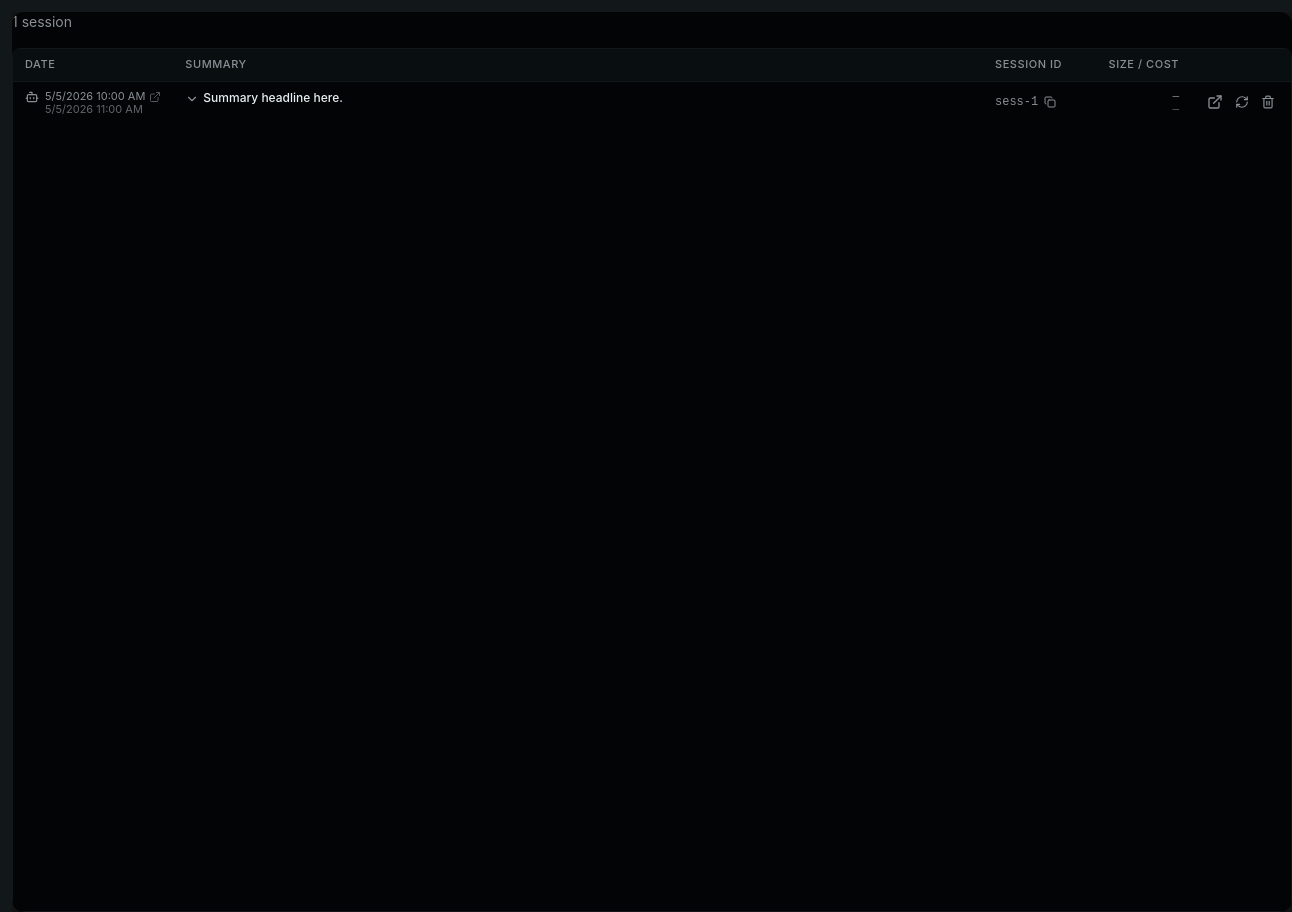
Test case: SessionList summary rendering › renders the summary headline collapsed by default and reveals the paragraph on chevron click
The width and height of the screenshot is (1292, 912).
Expected: the text "Summary headline here." is shown, [203,90,343,105]
Expected: the text "Summary paragraph here, with details." is not shown
// Click the expand chevron — paragraph appears.
Click the button named "expand summary" at (192, 99), box [185,92,199,106]
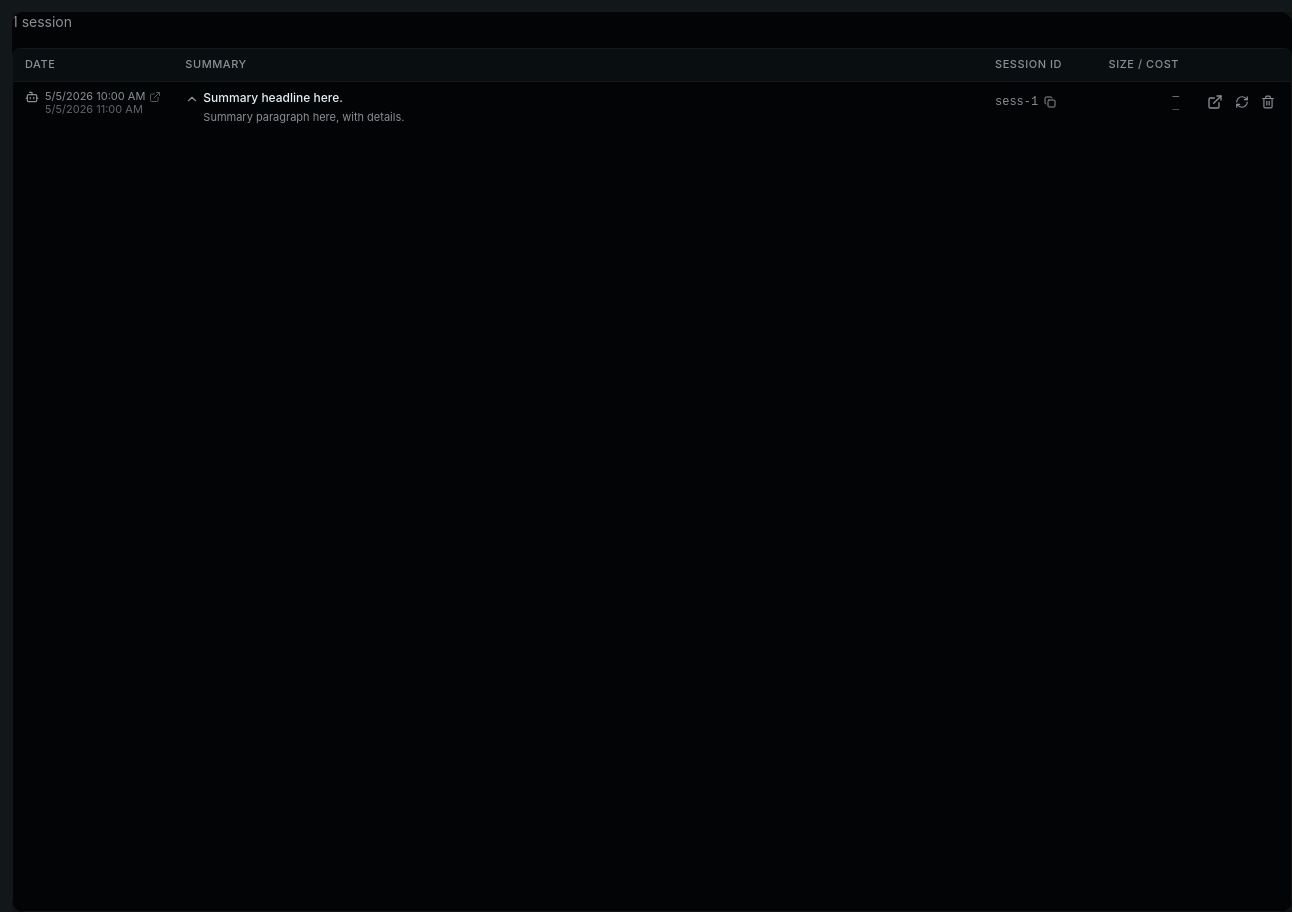
Now the text "Summary paragraph here, with details." is shown, box [203,110,404,124]
// Now the chevron's role flips to "Collapse summary".
Click the button named "collapse summary" at (192, 99), box [185,92,199,106]
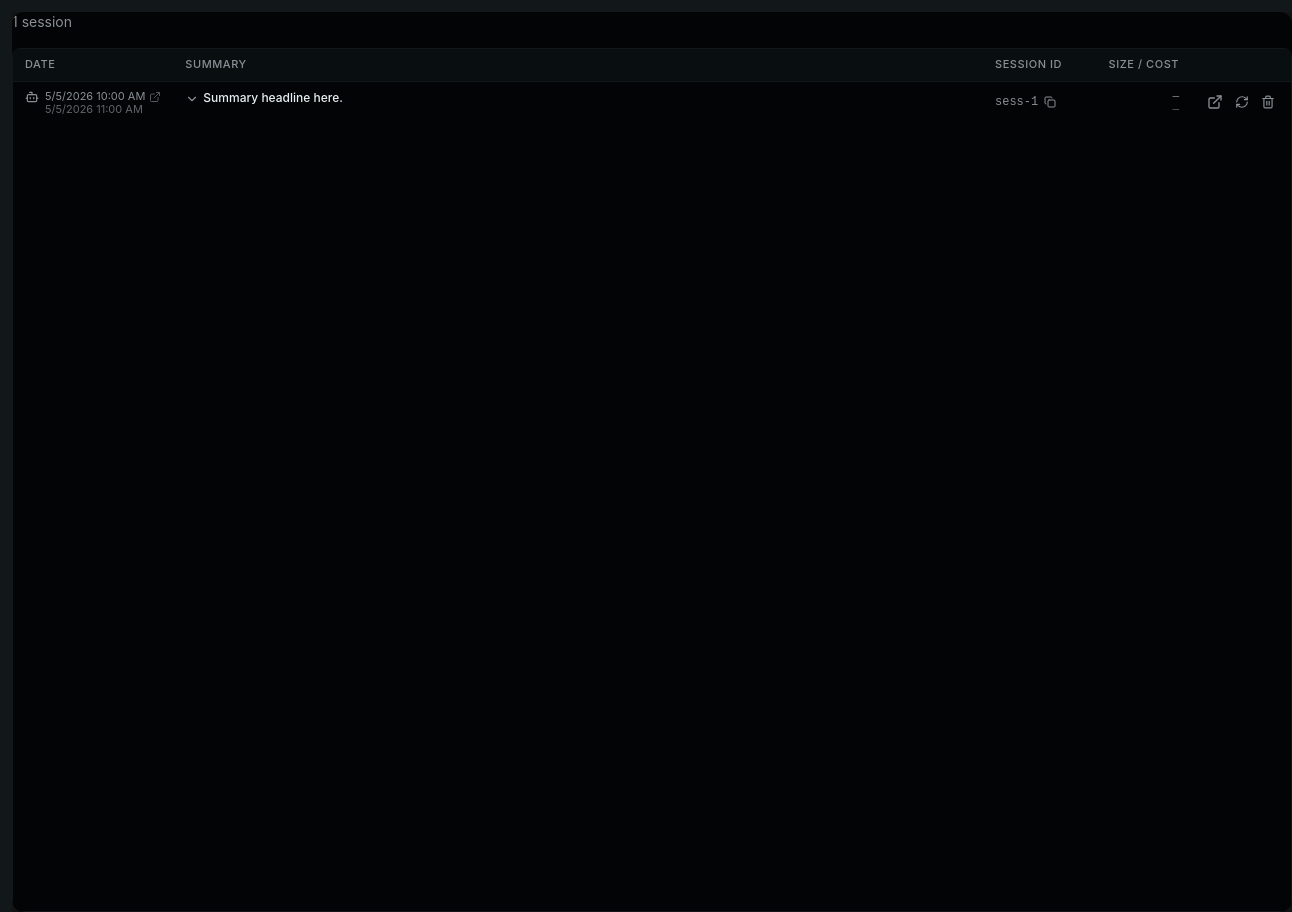
Now the text "Summary paragraph here, with details." is gone
